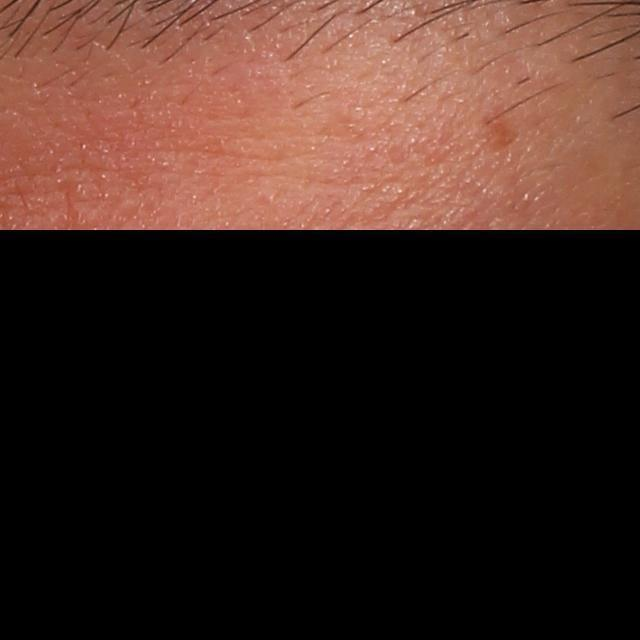melasma: (480, 103, 528, 159)
